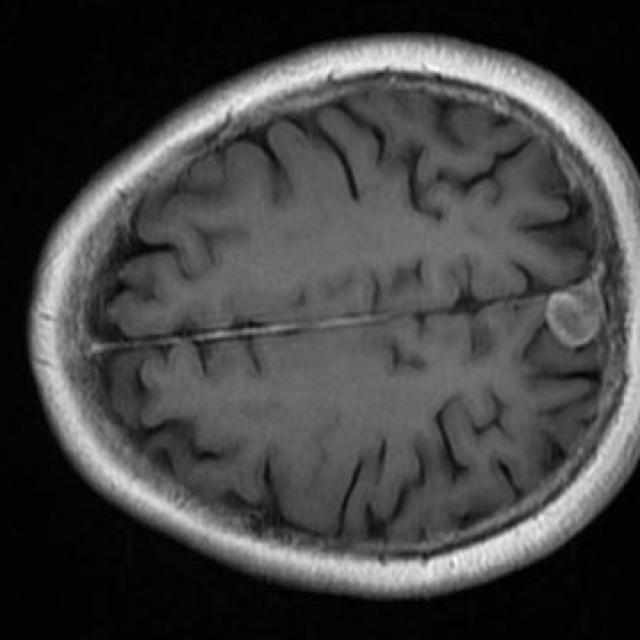meningioma: (544, 280, 603, 349)
